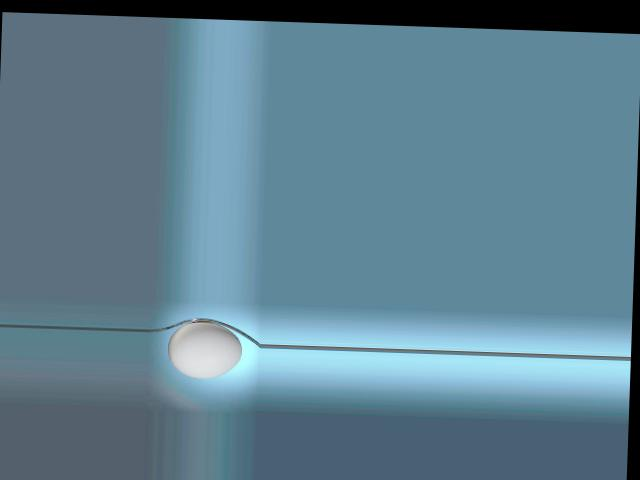egg: (166, 320, 242, 379)
